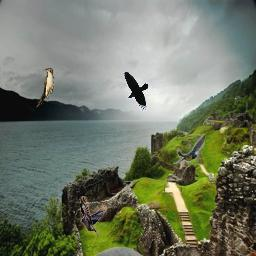Crow: (80, 196, 107, 236), (123, 72, 148, 112)
Cuckoo: (36, 68, 54, 108)
Swallow: (173, 134, 205, 164)
